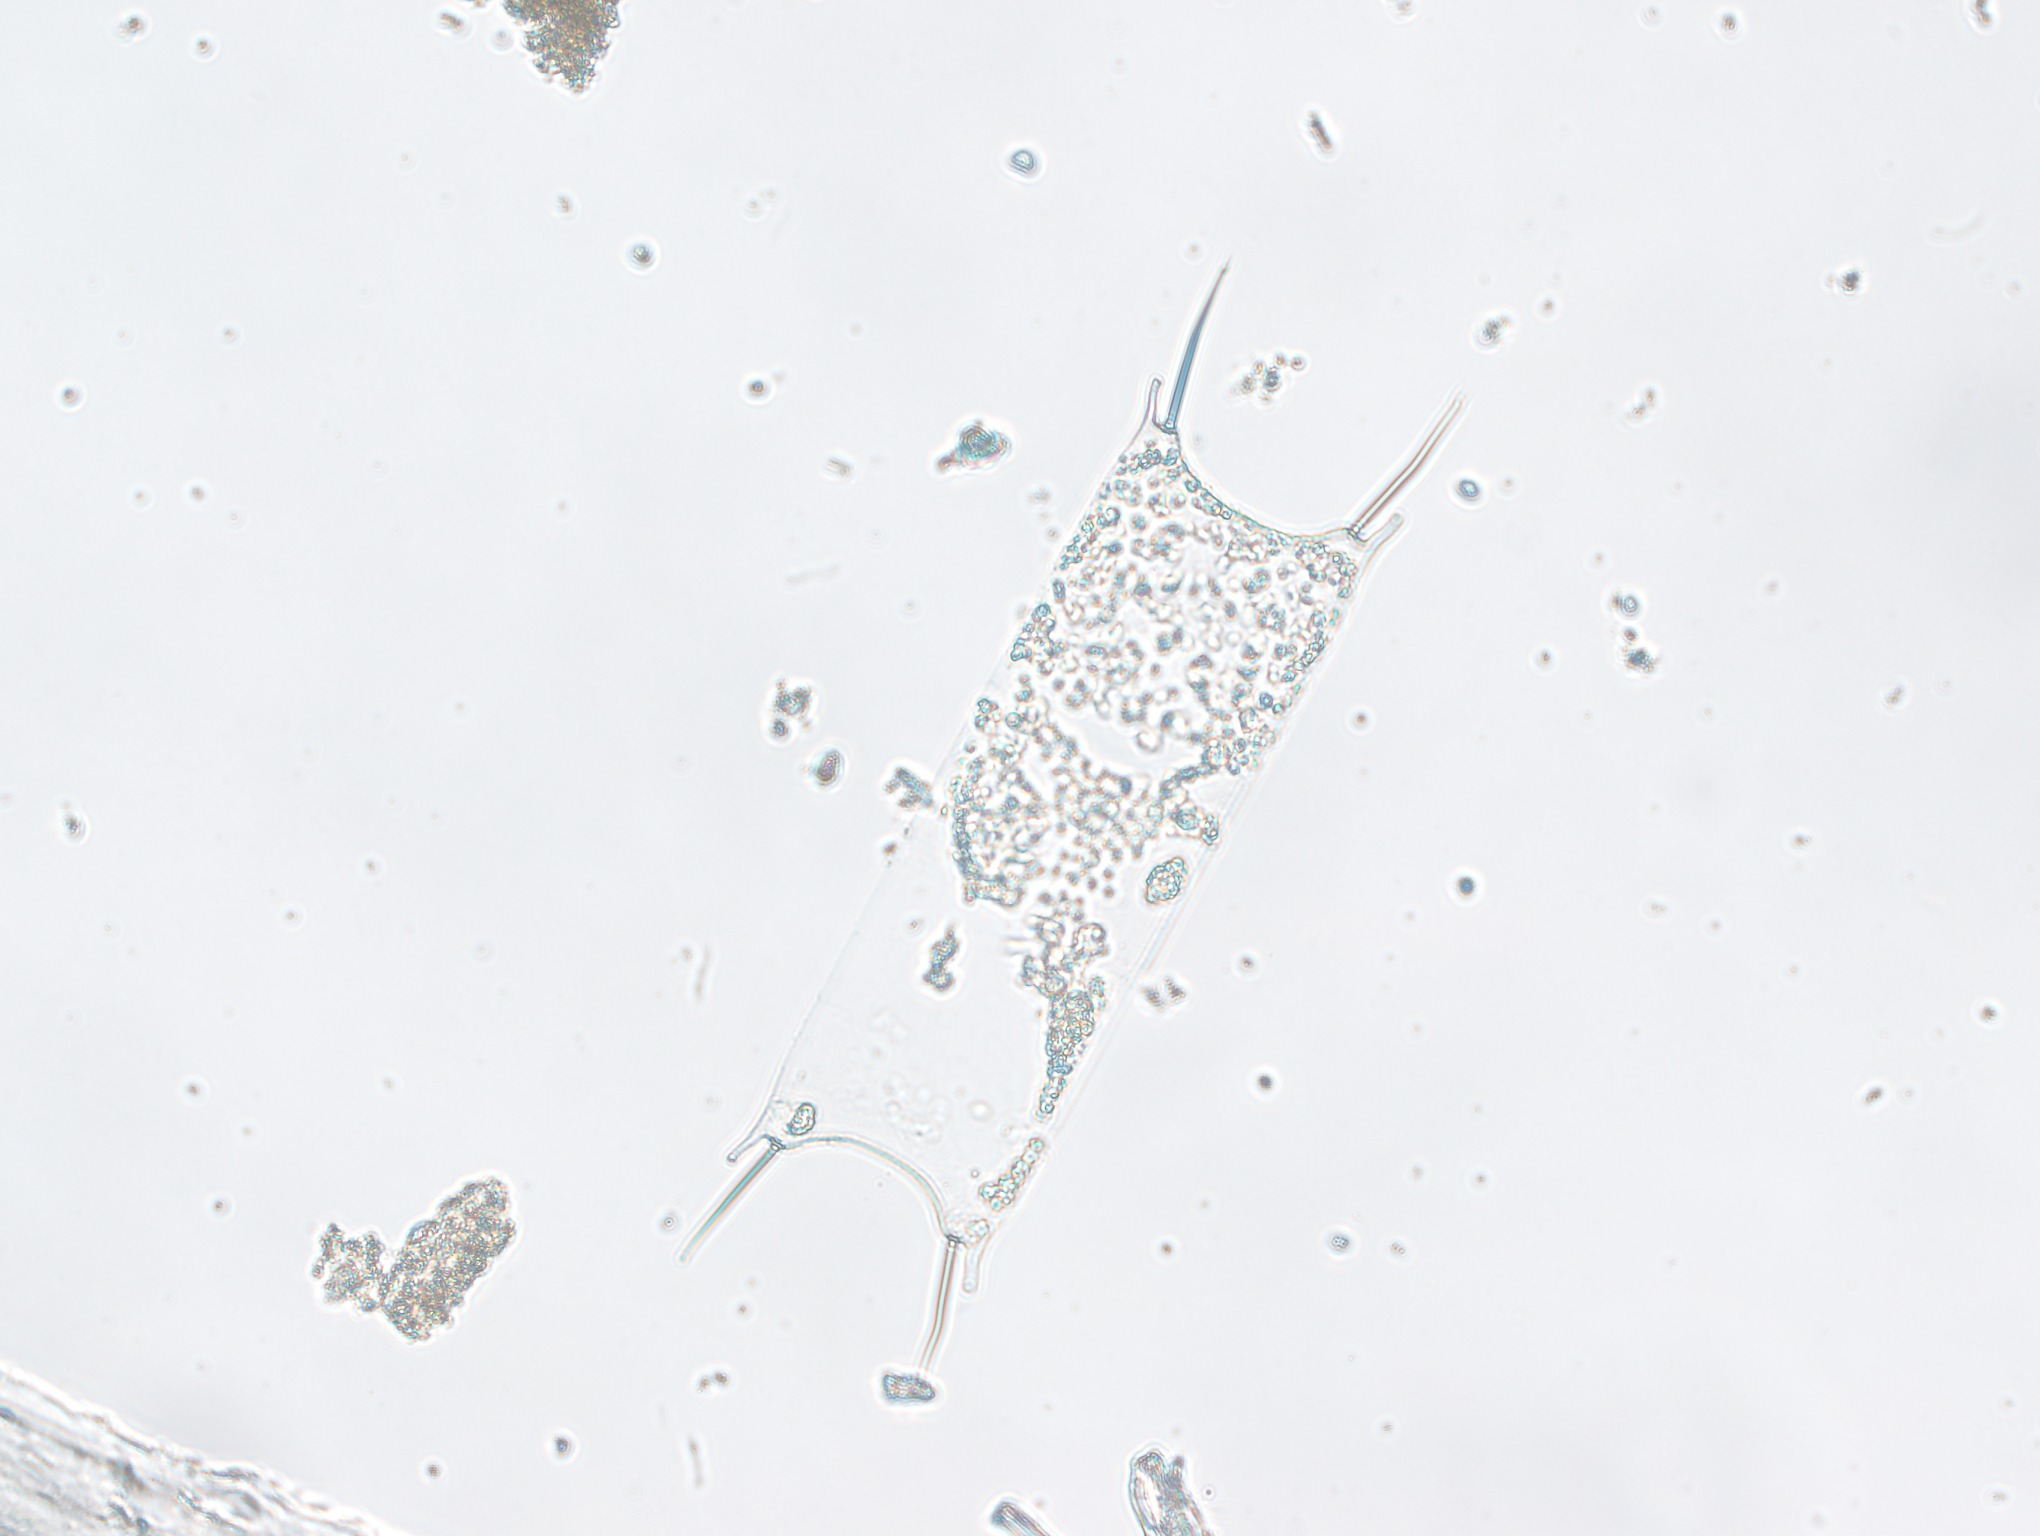biddulphia: (672, 227, 1474, 1375)
